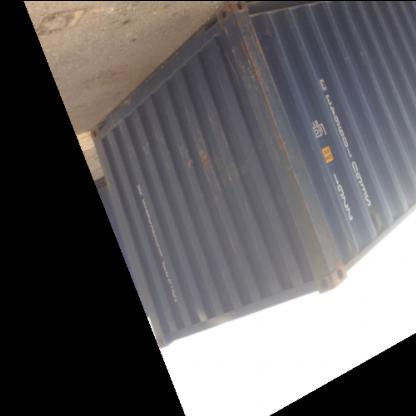Damage: (264, 121, 336, 275), (220, 20, 272, 98), (178, 140, 228, 196)
